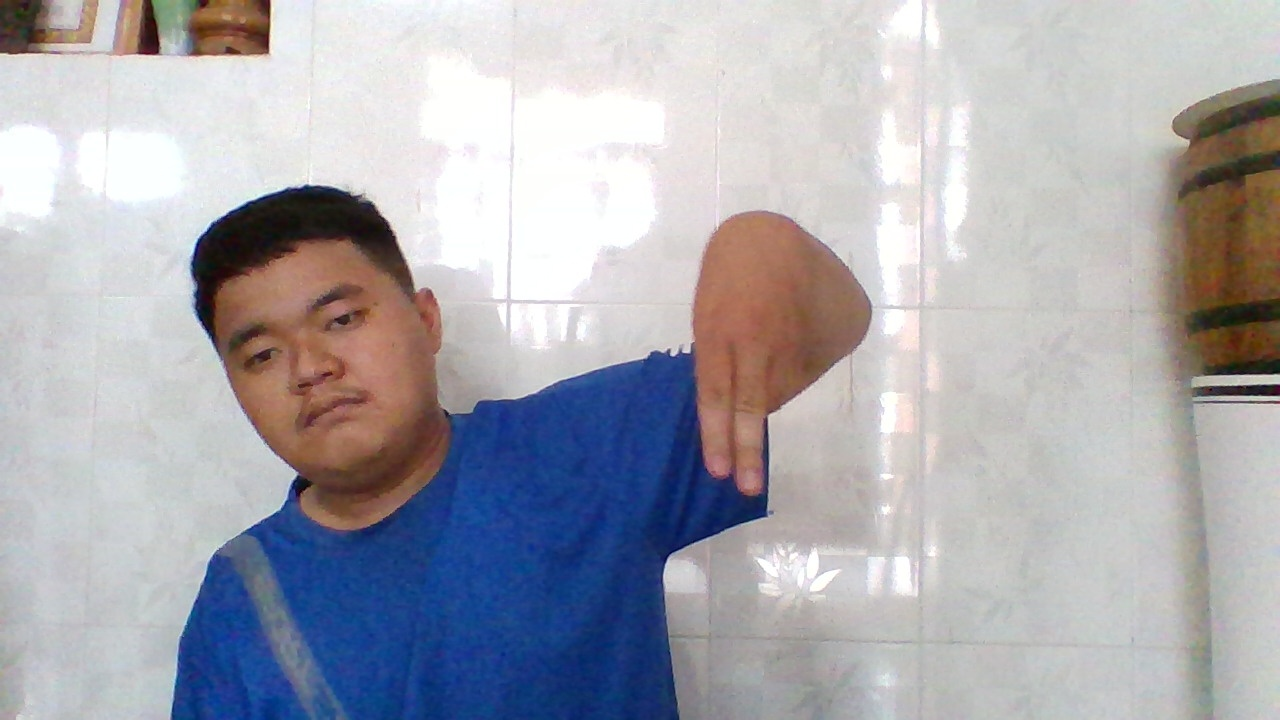N: (693, 199, 850, 507)
